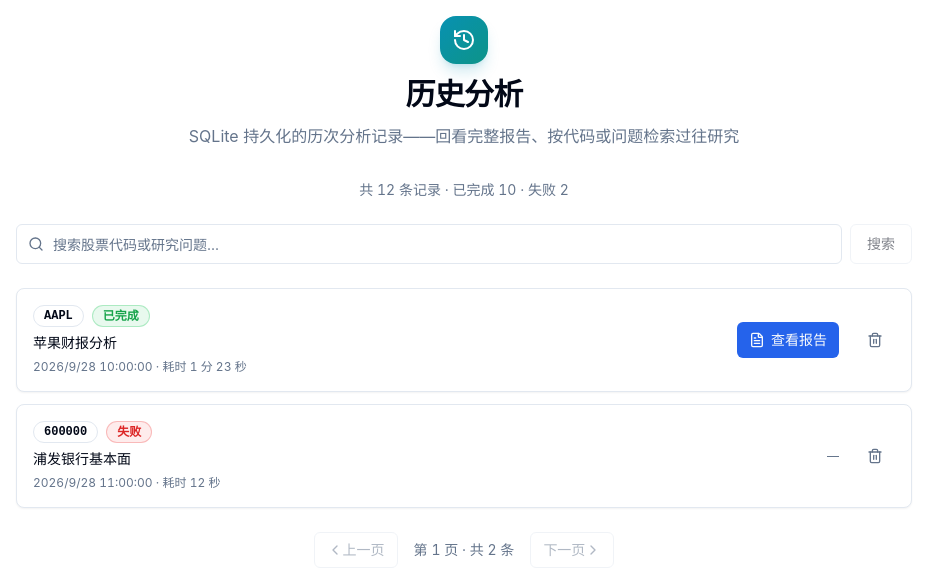
it: HistoryPage record list › deletes a record after confirm and refreshes list and stats
Expected: the text "苹果财报分析" is shown, [33,334,117,351]
Click the button named "删除 t-001" at coordinates (875, 340), box [855,320,895,360]
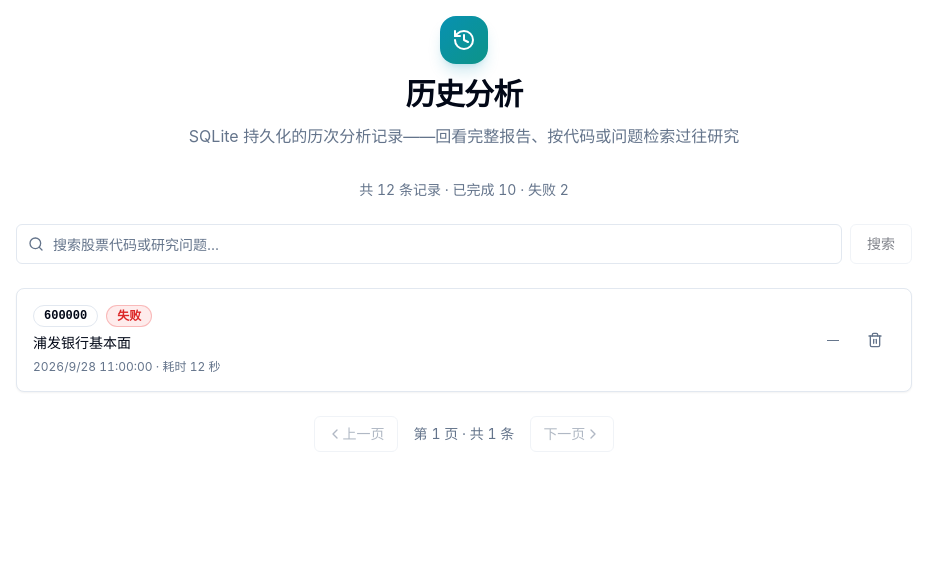
Expected: the text "浦发银行基本面" is shown, [33,334,131,351]
Now the text "苹果财报分析" is gone
